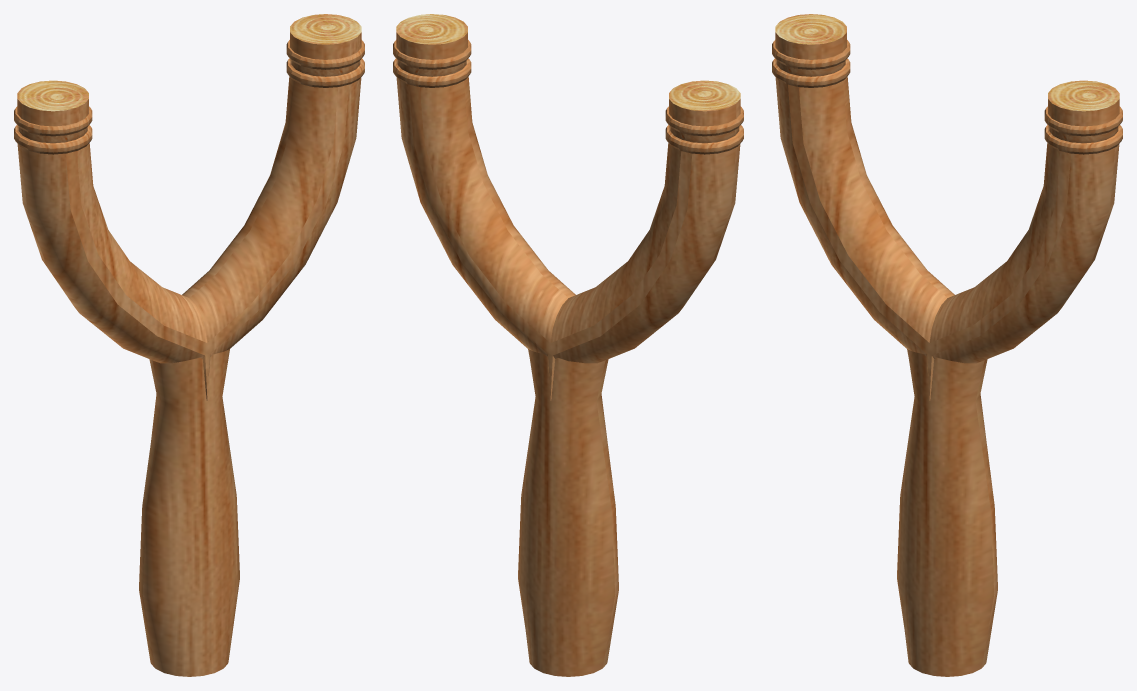
Rendered from Slingshot G1.fbx.
The picture shows the model from 3 angles, left to right: view 1: azimuth 30°, elevation 25°; view 2: azimuth 150°, elevation 25°; view 3: azimuth 330°, elevation 25°; orthographic projection.
Parts seen in each view (by area): view 1: Cylinder001; view 2: Cylinder001; view 3: Cylinder001.
Part boxes in pixels (x1,y1,x2,y2): Cylinder001: (14,14,364,676); Cylinder001: (393,14,743,676); Cylinder001: (772,14,1122,676).
Bounding box in the file's own units: 21.63 × 36.18 × 4.3.
Materials: 1 (1 with a texture image).
